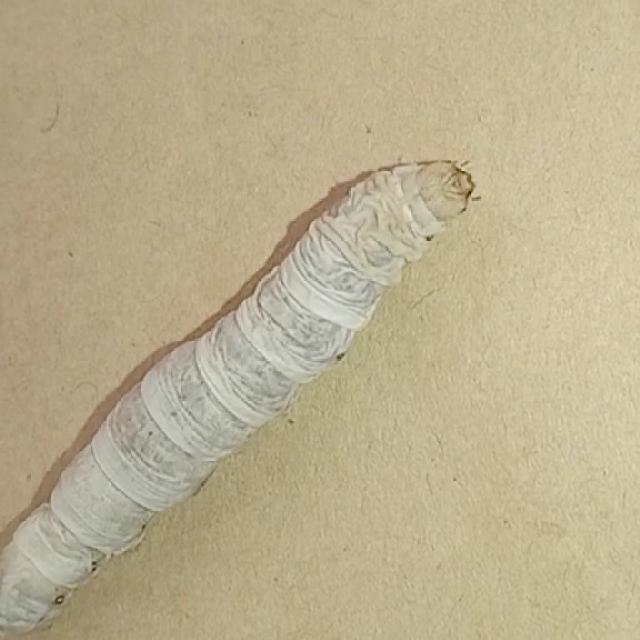Grasserie: (1, 132, 492, 640)
